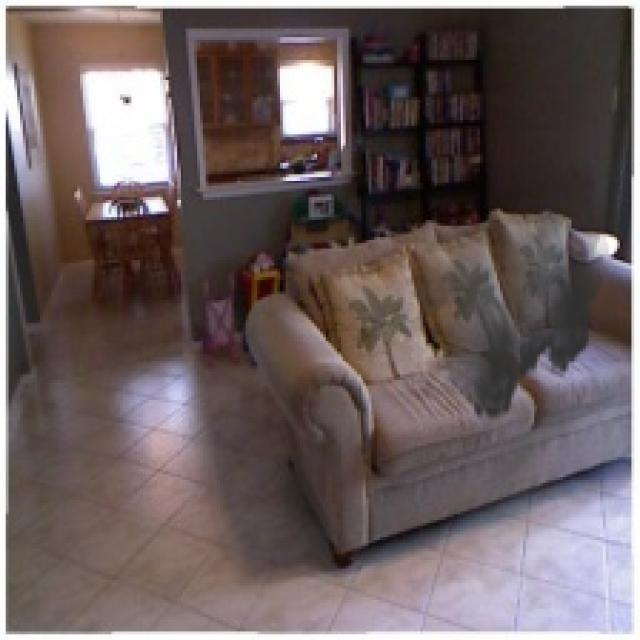Smoke: (402, 148, 608, 432)
